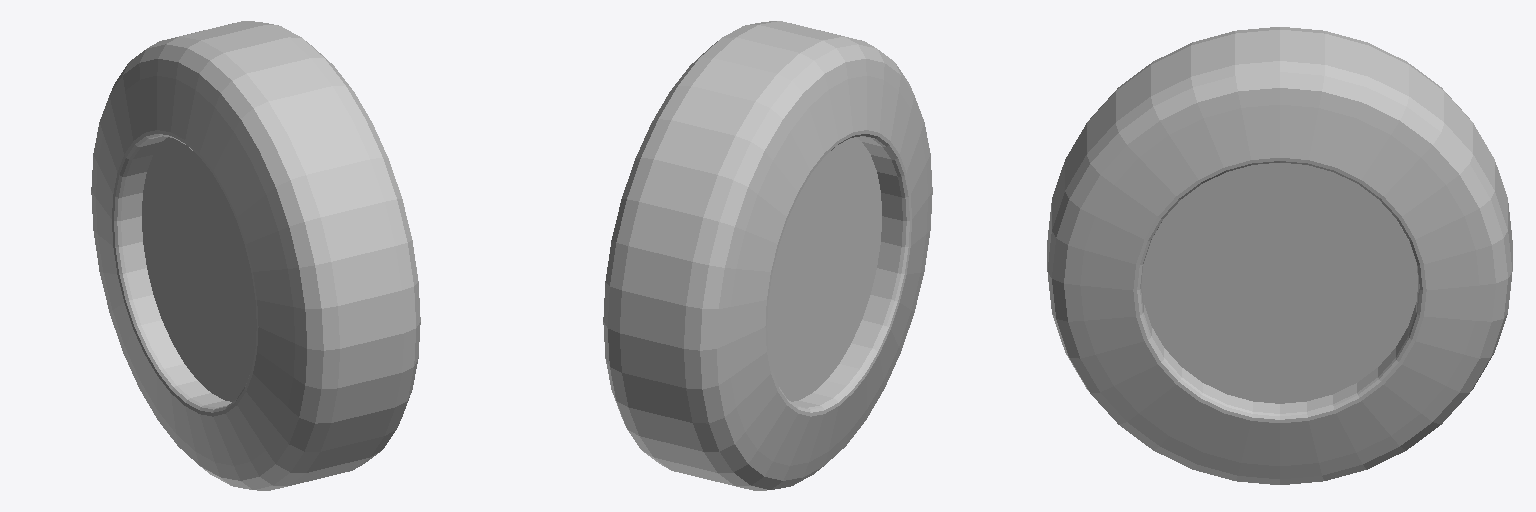
Rendered from tire.obj.
The picture shows the model from 3 angles: view 1: azimuth 30°, elevation 25°; view 2: azimuth 150°, elevation 25°; view 3: azimuth 270°, elevation 25°; orthographic projection.
Parts seen in each view (by area): view 1: Cylinder_Cylinder.001; view 2: Cylinder_Cylinder.001; view 3: Cylinder_Cylinder.001.
Boxes of the visible parts, box(x1,y1,x2,y2) form: Cylinder_Cylinder.001: box(91, 21, 420, 490); Cylinder_Cylinder.001: box(603, 21, 932, 490); Cylinder_Cylinder.001: box(1047, 27, 1512, 484).
Bounding box in the file's own units: 0.7028 × 2 × 2.